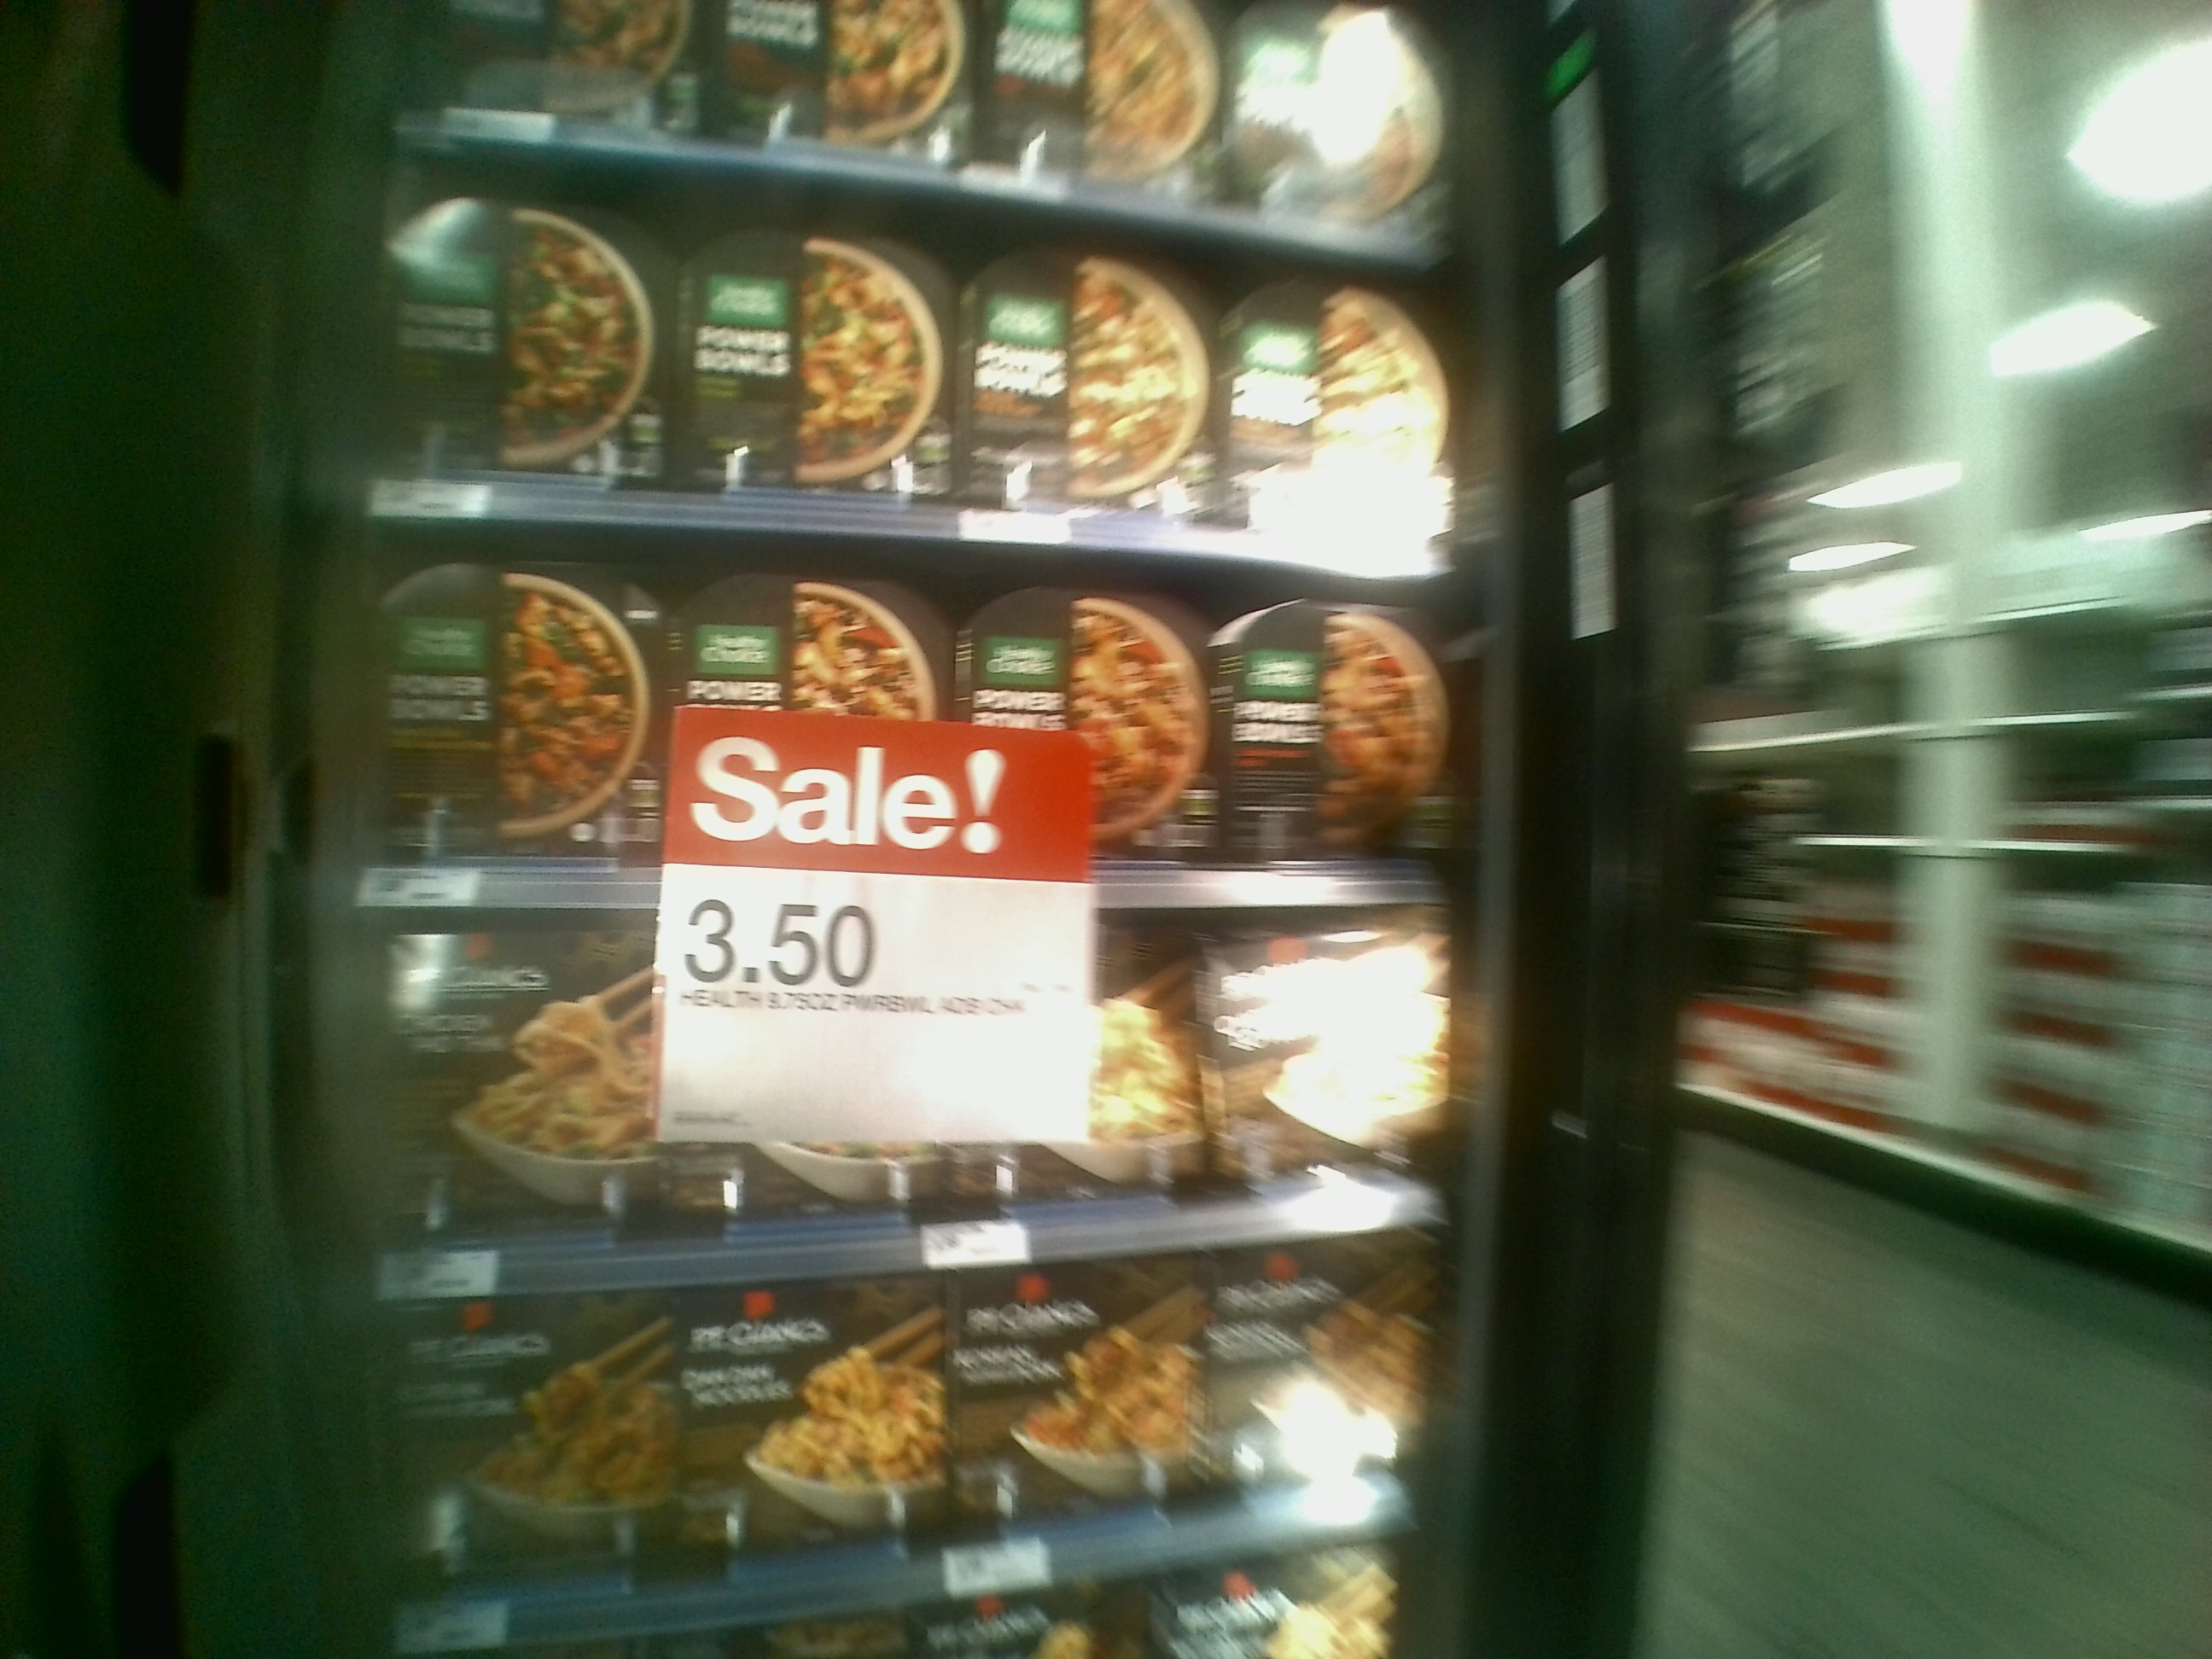shelf: (336, 505, 1465, 918)
